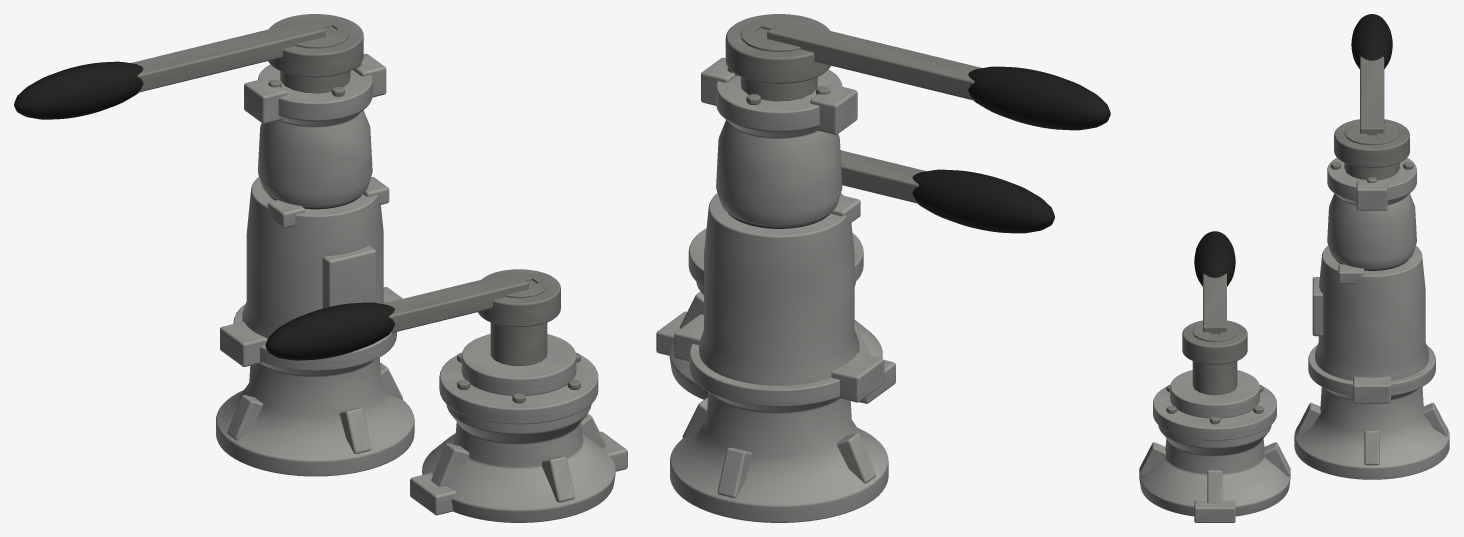
Rendered from brake_valves_with_handles.glb.
The picture shows the model from 3 angles, left to right: view 1: azimuth 30°, elevation 25°; view 2: azimuth 150°, elevation 25°; view 3: azimuth 270°, elevation 25°; orthographic projection. The views are drawn at different scales.
Parts seen in each view (by area): view 1: Tall_Lower_Casting, Short_Lower_Casting, Tall_Upper_Casting, Tall_Handle_Arm, Short_Handle_Grip, Tall_Handle_Grip, Short_Flange, Short_Cover, Short_Handle_Arm, Tall_Handle_Socket, Tall_Front_Cast_Boss, Short_Exposed_Spindle (+11 smaller); view 2: Tall_Lower_Casting, Tall_Upper_Casting, Tall_Handle_Arm, Tall_Handle_Grip, Short_Handle_Grip, Tall_Handle_Socket, Tall_Lower_Flange, Short_Handle_Arm, Tall_Exposed_Spindle, Tall_Lower_Flange_Ear_1, Tall_Cap_Ear_1, Short_Lower_Casting (+7 smaller); view 3: Tall_Lower_Casting, Short_Lower_Casting, Tall_Upper_Casting, Short_Flange, Short_Cover, Tall_Handle_Socket, Tall_Handle_Arm, Short_Handle_Socket, Short_Exposed_Spindle, Tall_Lower_Flange, Short_Handle_Grip, Tall_Handle_Grip (+13 smaller).
Boxes of the visible parts, x1,y1,x2,y2 form: Tall_Lower_Casting: (216, 177, 414, 476); Short_Lower_Casting: (422, 404, 615, 522); Tall_Upper_Casting: (258, 64, 372, 206); Tall_Handle_Arm: (130, 19, 325, 92); Short_Handle_Grip: (265, 302, 394, 360); Tall_Handle_Grip: (14, 61, 143, 119); Short_Flange: (439, 355, 598, 424); Short_Cover: (461, 334, 576, 395); Short_Handle_Arm: (383, 272, 528, 333); Tall_Handle_Socket: (268, 14, 363, 77); Tall_Front_Cast_Boss: (322, 245, 376, 308); Short_Exposed_Spindle: (490, 272, 547, 365); Tall_Lower_Casting: (670, 193, 888, 522); Tall_Upper_Casting: (716, 69, 842, 225); Tall_Handle_Arm: (767, 20, 981, 100); Tall_Handle_Grip: (968, 66, 1110, 130); Short_Handle_Grip: (912, 169, 1054, 233); Tall_Handle_Socket: (725, 14, 830, 83); Tall_Lower_Flange: (689, 333, 869, 406); Short_Handle_Arm: (840, 150, 926, 203); Tall_Exposed_Spindle: (740, 17, 817, 101); Tall_Lower_Flange_Ear_1: (831, 352, 884, 402); Tall_Cap_Ear_1: (810, 84, 857, 134); Short_Lower_Casting: (669, 282, 882, 399); Tall_Lower_Casting: (1294, 245, 1449, 479); Short_Lower_Casting: (1139, 425, 1290, 516); Tall_Upper_Casting: (1327, 158, 1416, 268); Short_Flange: (1153, 386, 1276, 440); Short_Cover: (1170, 370, 1259, 418); Tall_Handle_Socket: (1334, 119, 1409, 167); Tall_Handle_Arm: (1360, 56, 1384, 135); Short_Handle_Socket: (1182, 320, 1247, 364); Short_Exposed_Spindle: (1192, 323, 1237, 394); Tall_Lower_Flange: (1308, 345, 1435, 395); Short_Handle_Grip: (1194, 231, 1235, 286); Tall_Handle_Grip: (1351, 14, 1392, 68).
Bounding box in the file's own units: 0.2613 × 0.2115 × 0.1799.
4 materials, 2 textured.
